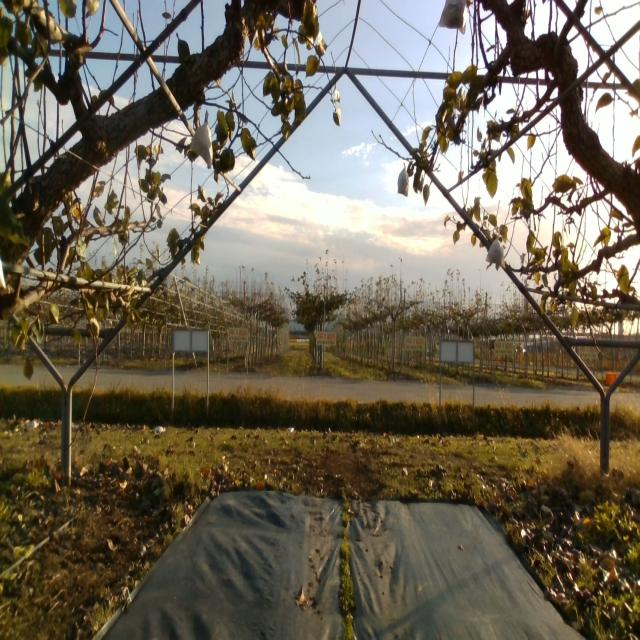pearbags: (189, 108, 213, 172), (486, 237, 506, 269), (396, 162, 408, 195)
